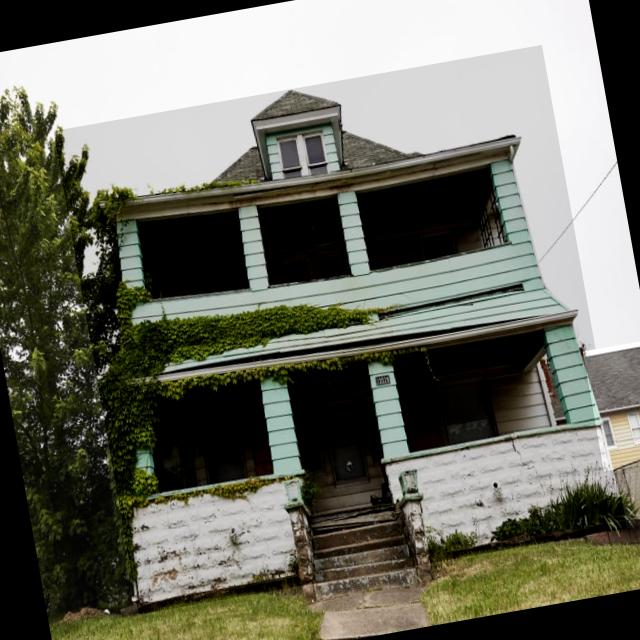House: (54, 44, 626, 614), (582, 339, 640, 470)
